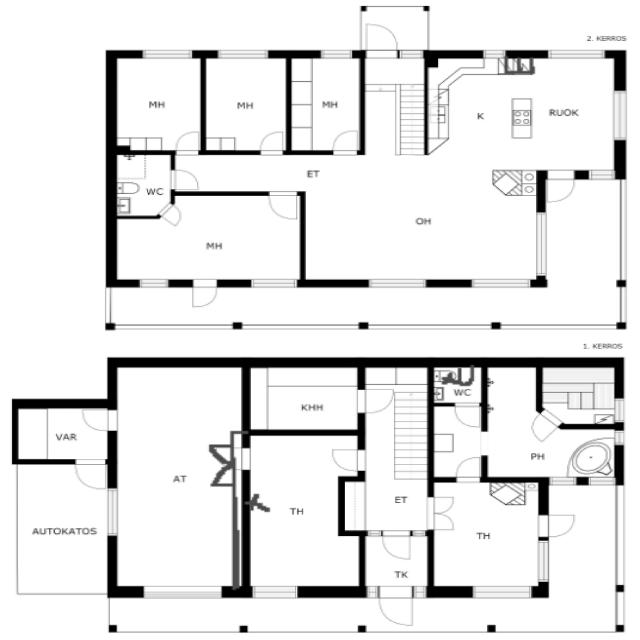door: (372, 585, 420, 630), (362, 19, 401, 59), (353, 386, 398, 418), (543, 169, 578, 205), (380, 528, 417, 562), (72, 458, 110, 491), (428, 493, 459, 533), (267, 188, 302, 222), (187, 278, 222, 312), (452, 453, 486, 484), (79, 406, 116, 434), (540, 511, 578, 538), (530, 408, 560, 442), (328, 446, 364, 474), (452, 400, 484, 431), (329, 126, 360, 156), (257, 128, 287, 157), (173, 128, 202, 157), (169, 168, 203, 192), (159, 201, 183, 228)
window: (609, 484, 633, 590), (615, 176, 635, 290), (137, 580, 230, 602), (492, 320, 620, 334), (610, 86, 630, 146), (210, 45, 278, 62), (534, 210, 550, 281), (538, 46, 612, 61), (361, 276, 434, 290), (103, 487, 122, 540), (136, 46, 198, 62), (466, 584, 536, 598), (465, 276, 534, 290), (247, 583, 305, 599), (244, 275, 301, 291), (536, 538, 552, 584), (584, 166, 619, 183), (314, 48, 358, 61), (613, 590, 628, 628), (133, 277, 174, 290), (611, 394, 628, 425), (616, 284, 629, 324), (238, 444, 253, 476), (479, 48, 511, 61), (546, 475, 578, 486), (614, 427, 627, 448)
zone: (319, 142, 539, 280), (111, 364, 236, 598), (418, 56, 622, 170), (246, 431, 360, 594), (112, 195, 306, 282), (430, 476, 542, 592), (114, 53, 204, 153), (204, 54, 290, 154), (244, 366, 364, 432), (290, 54, 364, 154), (15, 407, 114, 463), (541, 365, 619, 427), (114, 153, 172, 217), (431, 366, 486, 406)
